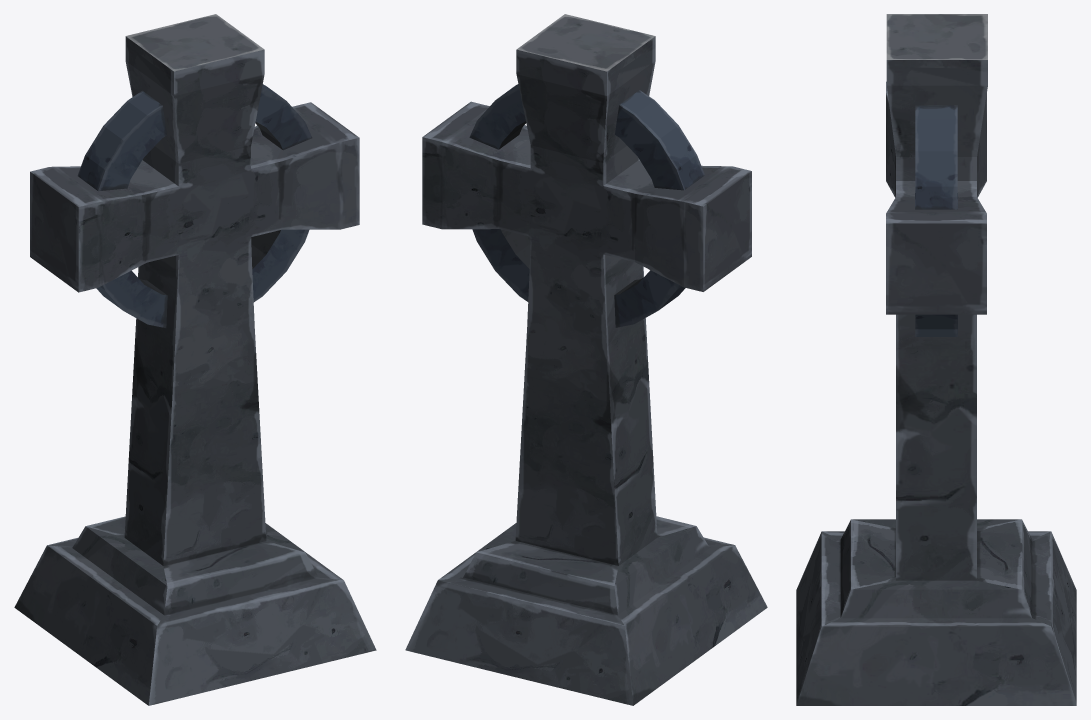
File: tombstone2_intact.FBX
The picture shows the model from 3 angles, left to right: view 1: azimuth 30°, elevation 25°; view 2: azimuth 150°, elevation 25°; view 3: azimuth 270°, elevation 25°; orthographic projection. The views are drawn at different scales.
Parts seen in each view (by area): view 1: Tombstone; view 2: Tombstone; view 3: Tombstone.
Boxes of the visible parts, box(x1,y1,x2,y2) form: Tombstone: box(14, 14, 376, 705); Tombstone: box(405, 14, 767, 705); Tombstone: box(796, 14, 1076, 705).
Bounding box in the file's own units: 32.63 × 27.04 × 65.04.
Materials: 1 (1 with a texture image).
